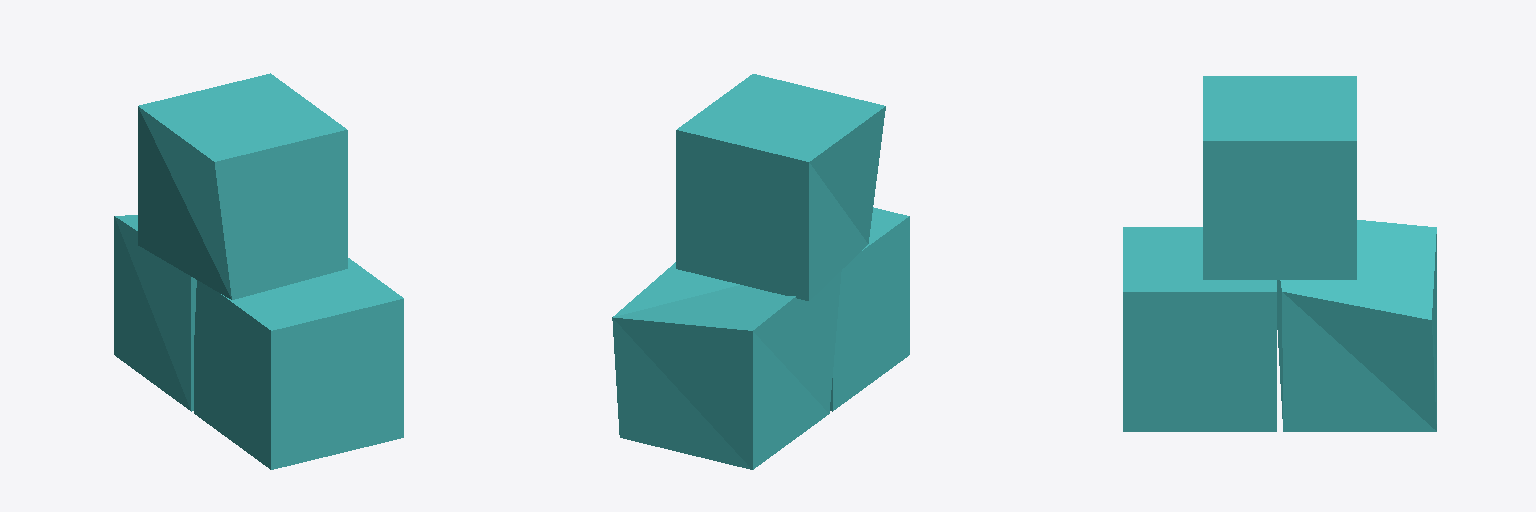
Rendered from ice.obj.
The picture shows the model from 3 angles: view 1: azimuth 30°, elevation 25°; view 2: azimuth 150°, elevation 25°; view 3: azimuth 270°, elevation 25°; orthographic projection.
Visible parts, largest first — view 1: Cube.001, Cube.002, Cube; view 2: Cube.001, Cube, Cube.002; view 3: Cube.001, Cube, Cube.002.
Part boxes in pixels (x1,y1,x2,y2): Cube.001: (138, 73, 347, 299); Cube.002: (194, 258, 403, 469); Cube: (114, 215, 196, 411); Cube.001: (676, 74, 885, 300); Cube: (612, 262, 841, 469); Cube.002: (830, 207, 909, 411); Cube.001: (1203, 76, 1356, 279); Cube: (1277, 220, 1436, 431); Cube.002: (1123, 227, 1276, 431).
Size of the model in its own units: 2.4 by 4.06 by 4.08.